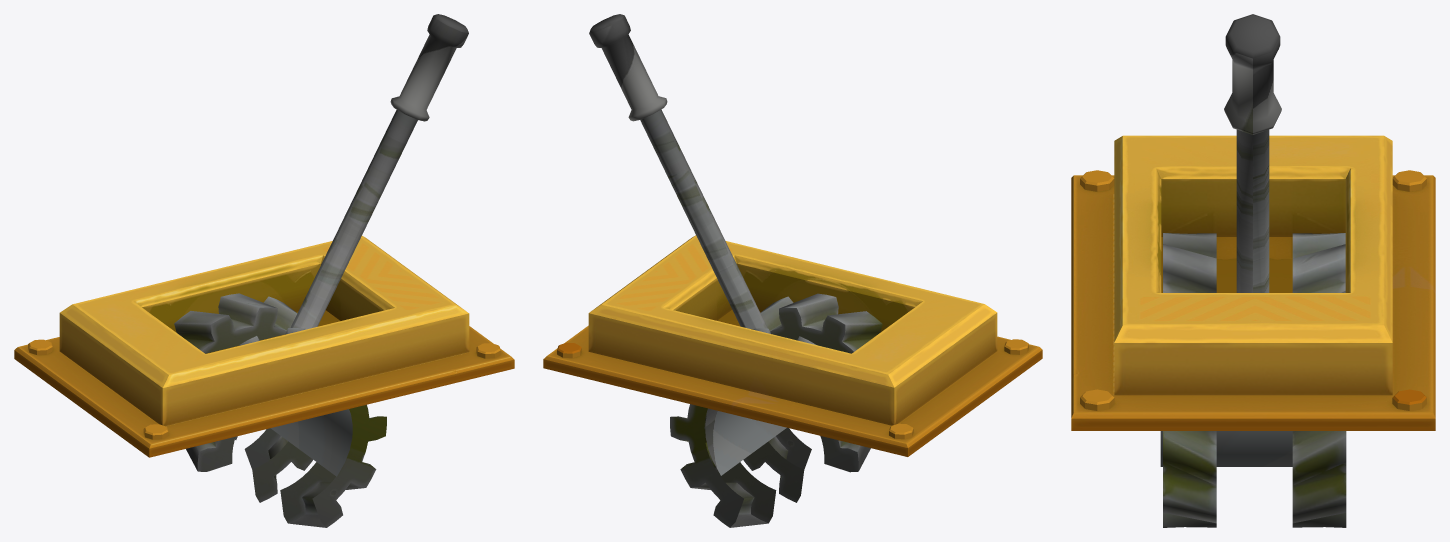
Rendered from lever.glb.
3 renders of one model, left to right at view 1: azimuth 30°, elevation 25°; view 2: azimuth 150°, elevation 25°; view 3: azimuth 270°, elevation 25°, orthographic. The views are drawn at different scales.
Parts seen in each view (by area): view 1: lever_base, lever_handle; view 2: lever_base, lever_handle; view 3: lever_base, lever_handle.
Boxes of the visible parts, box(x1,y1,x2,y2) form: lever_base: box(14, 235, 514, 457); lever_handle: box(174, 14, 468, 527); lever_base: box(543, 235, 1042, 456); lever_handle: box(589, 14, 882, 527); lever_base: box(1071, 135, 1435, 430); lever_handle: box(1160, 14, 1346, 527).
Bounding box in the file's own units: 1.38 × 1.56 × 0.8365.
2 materials, 2 textured.
